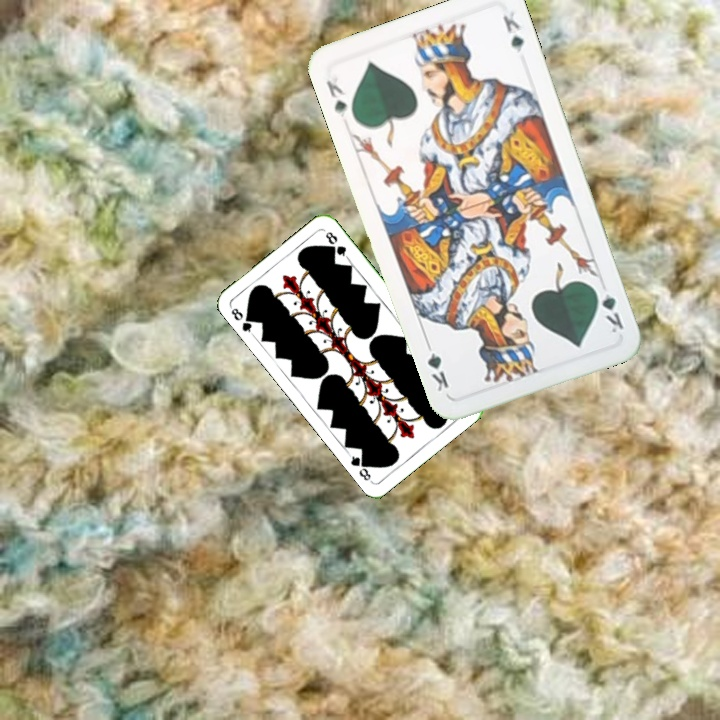G8: (226, 303, 257, 338)
GK: (590, 282, 626, 336), (322, 76, 350, 120)
